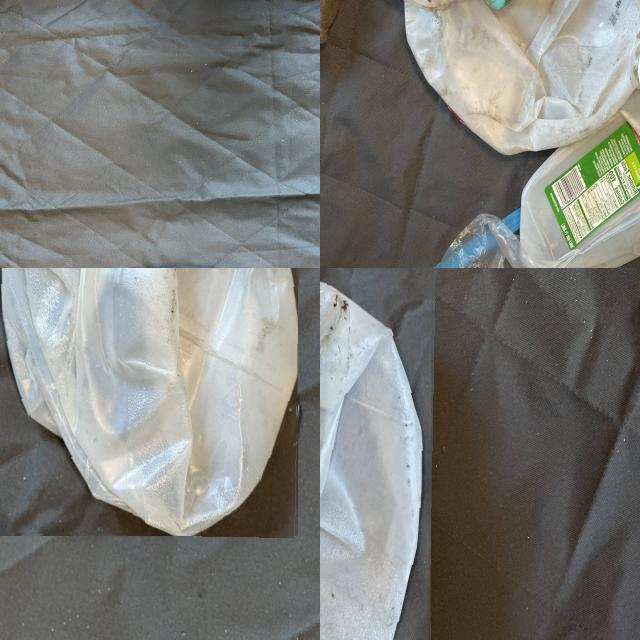milk-jug: (0, 268, 300, 537), (320, 268, 434, 640), (402, 0, 640, 151), (522, 72, 640, 268)
